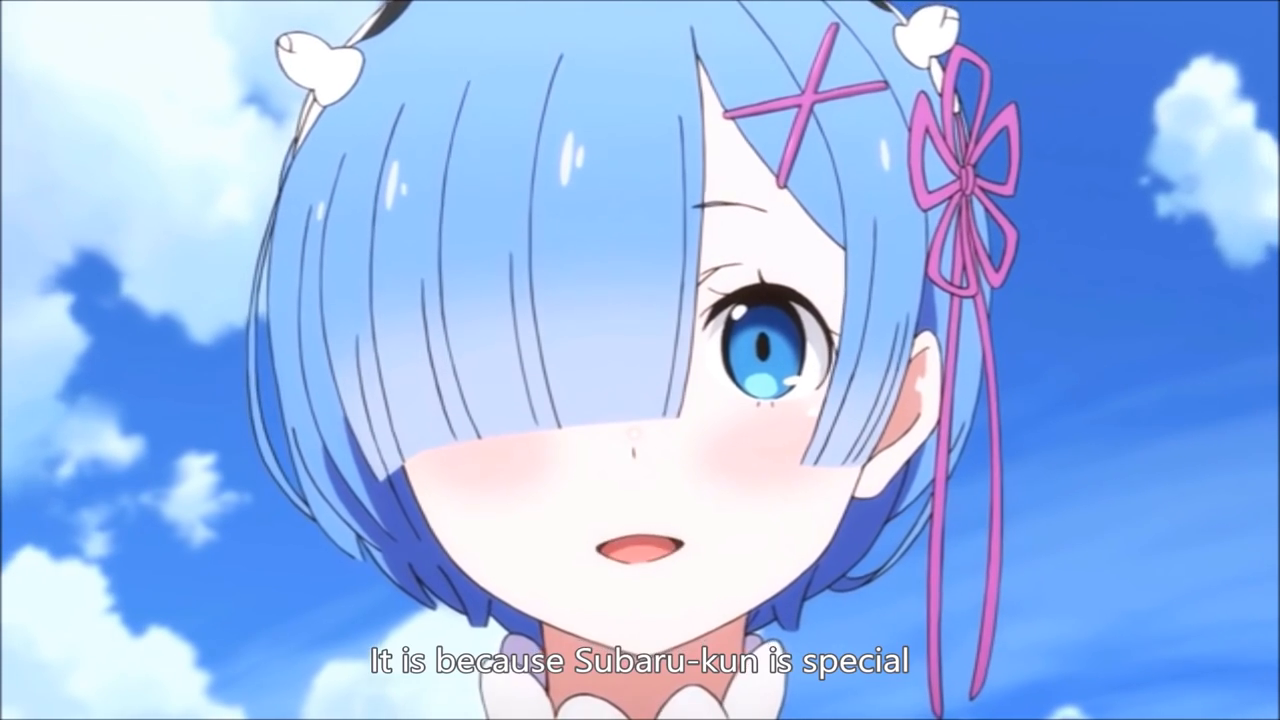REM: (246, 1, 997, 664)
